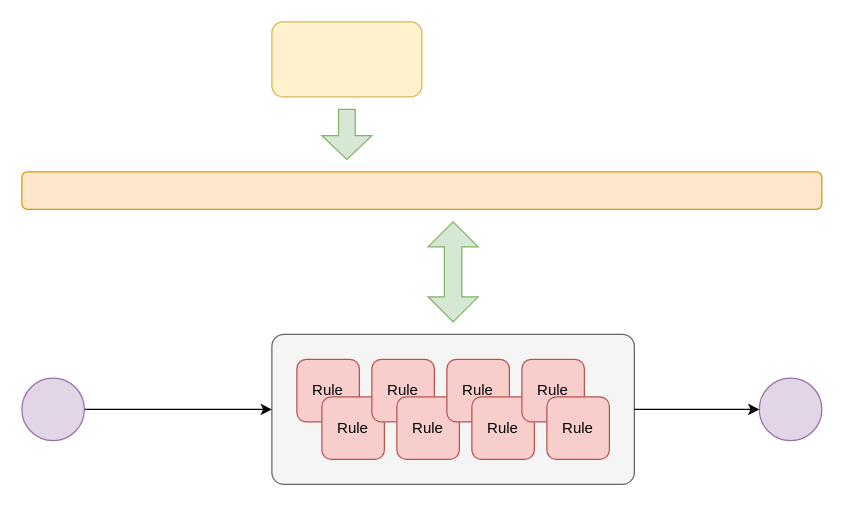
This 844x506 diagram has some shape labels left out. The centre of each missing label's shape, as x and y in pixels:
End: the point at 790,409
Product Resource Utility: the point at 346,59
Start: the point at 52,409
Workflow Rule Execution Context: the point at 421,190
